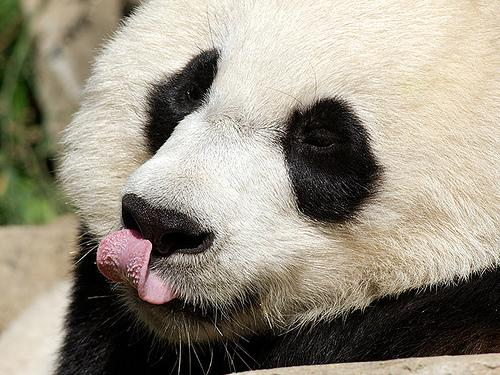panda: (57, 1, 499, 374)
